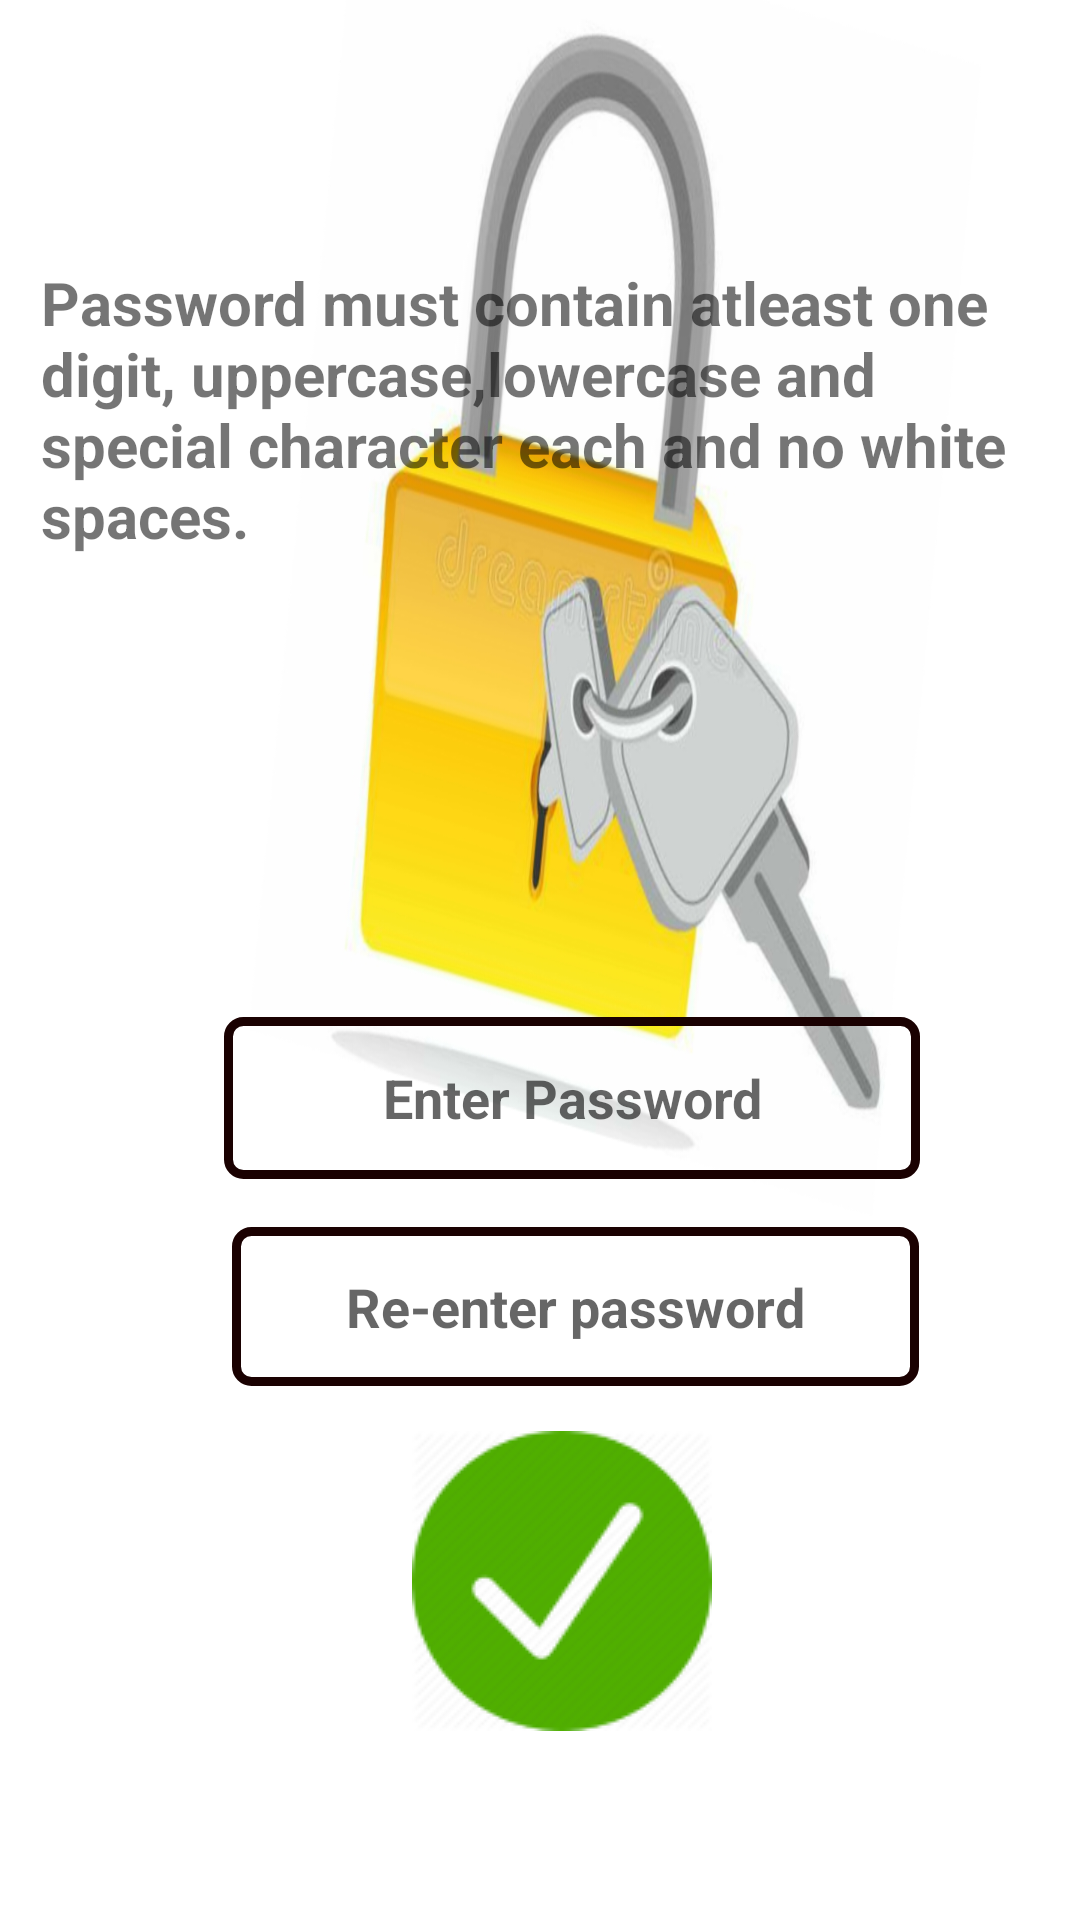

Where to tap for icons on this 1080*1920 app screen, as point (x, y):
right: point (562, 1581)
